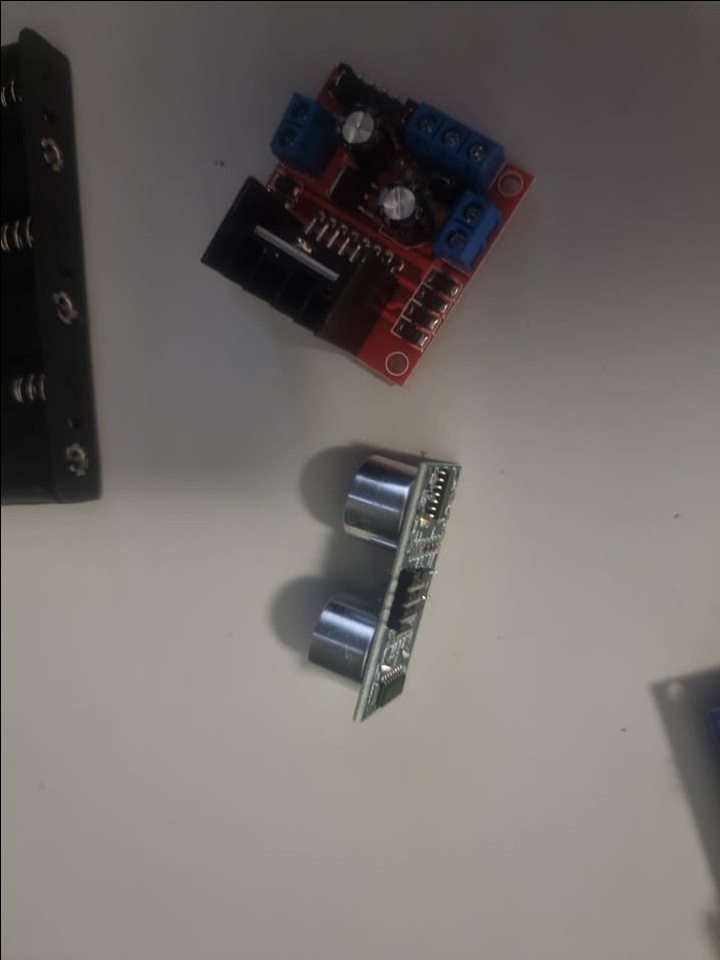BATTERY BOX: (0, 26, 117, 506)
MOTOR: (193, 61, 532, 386)
SENSOR: (302, 444, 471, 724)
